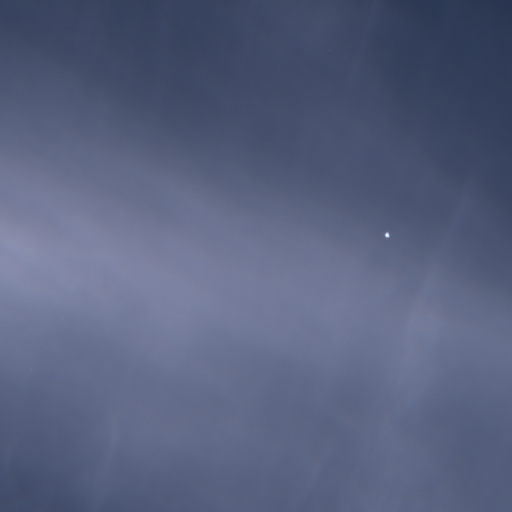Iceberg: (384, 232, 389, 237)
